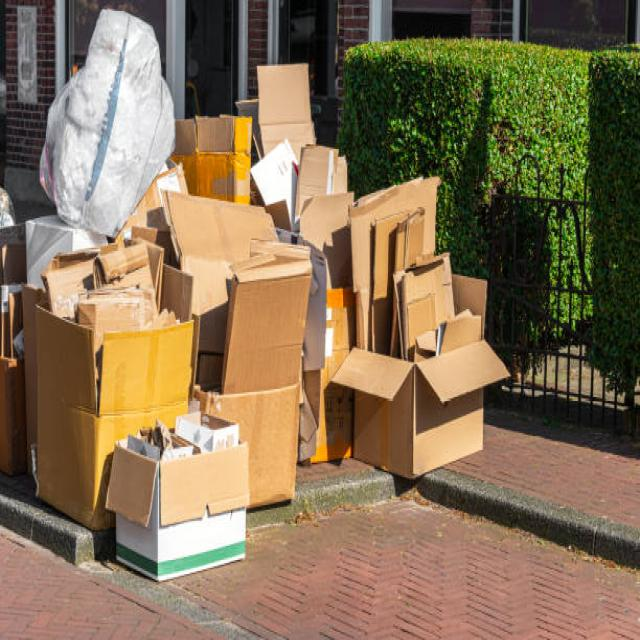cardboard: (172, 72, 512, 515), (203, 276, 320, 513), (336, 338, 509, 478), (112, 436, 259, 588), (33, 303, 115, 562)
trash: (44, 11, 171, 224)
